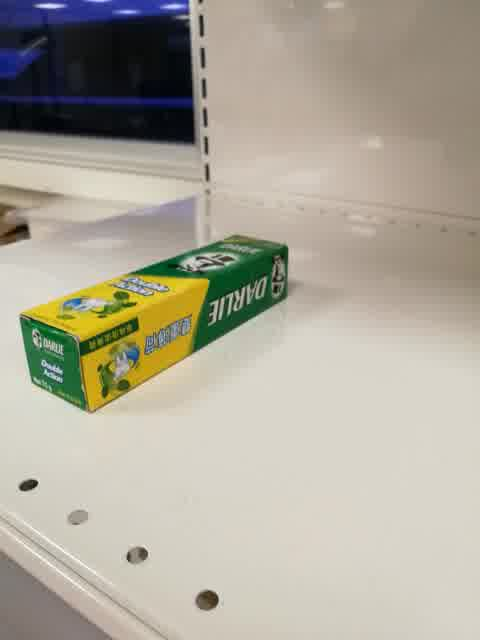toothpaste: (19, 233, 292, 415)
